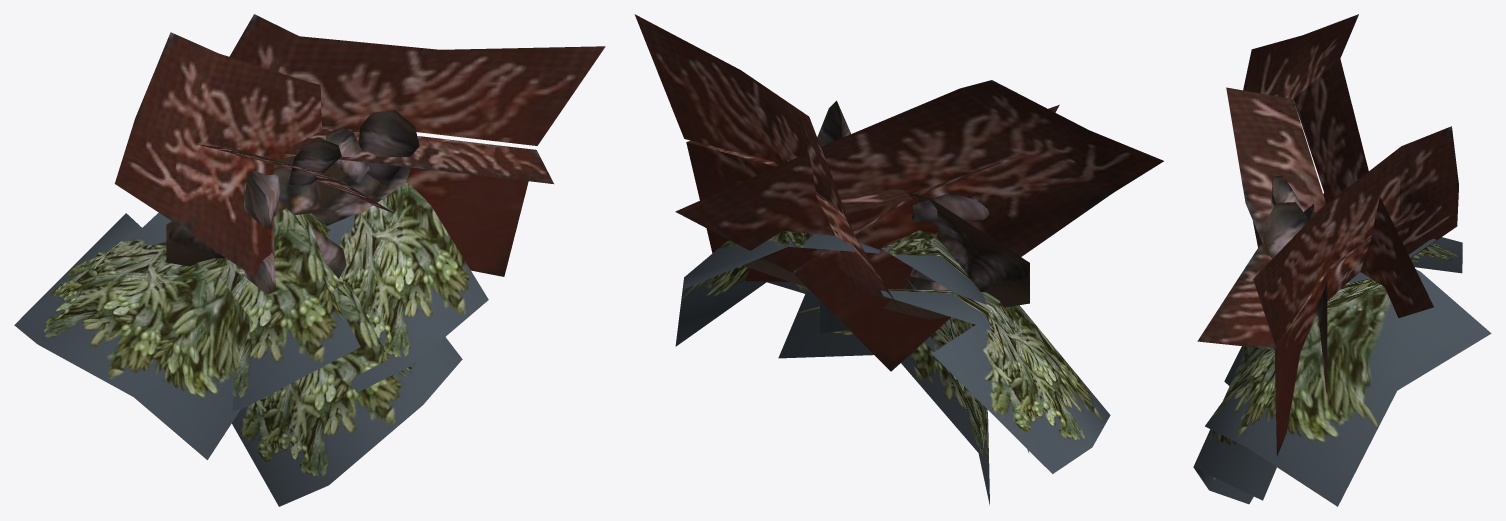
Rendered from pir_m_prp_dvj_seaweed_c.fbx.
3 renders of one model, left to right at view 1: azimuth 30°, elevation 25°; view 2: azimuth 150°, elevation 25°; view 3: azimuth 270°, elevation 25°, orthographic. The views are drawn at different scales.
Visible parts, largest first — view 1: coral13, seaweed8, coral14, seaweed6, seaweed5, seaweed7, coral11, coral12, mussels1, seaweed2, seaweed4, seaweed3 (+8 smaller); view 2: coral14, coral13, seaweed8, coral12, seaweed6, seaweed5, mussels1, seaweed7, coral11, seaweed2, seaweed3, mussels (+3 smaller); view 3: seaweed5, coral13, coral14, coral12, seaweed4, coral11, seaweed6, mussel8, seaweed8, seaweed3, mussels1, mussel7.
Boxes of the visible parts, x1,y1,x2,y2 form: coral13: (229,14,605,276); seaweed8: (14,212,253,459); coral14: (114,32,395,277); seaweed6: (232,282,462,506); seaweed5: (326,182,488,392); seaweed7: (168,208,360,410); coral11: (232,15,602,269); coral12: (136,34,392,276); mussels1: (166,155,410,266); seaweed2: (15,213,239,455); seaweed4: (332,186,477,391); seaweed3: (257,289,455,506); coral14: (675,80,1163,371); coral13: (634,14,912,309); seaweed8: (880,289,1110,473); coral12: (677,81,1111,344); seaweed6: (778,291,989,505); seaweed5: (675,231,934,351); mussels1: (742,193,1029,319); seaweed7: (820,230,1029,453); coral11: (638,16,911,298); seaweed2: (886,294,1108,473); seaweed3: (785,293,989,499); mussels: (743,194,1029,319); seaweed5: (1205,269,1491,506); coral13: (1197,126,1458,456); coral14: (1226,14,1433,318); coral12: (1226,16,1432,304); seaweed4: (1206,274,1419,504); coral11: (1199,127,1458,448); seaweed6: (1193,346,1276,504); mussel8: (1263,202,1308,258); seaweed8: (1409,237,1462,273); seaweed3: (1194,441,1276,502); mussels1: (1317,193,1327,393); mussel7: (1271,175,1304,211).
Size of the model in its own units: 1050 by 907 by 530.
Materials: 1 (1 with a texture image).
